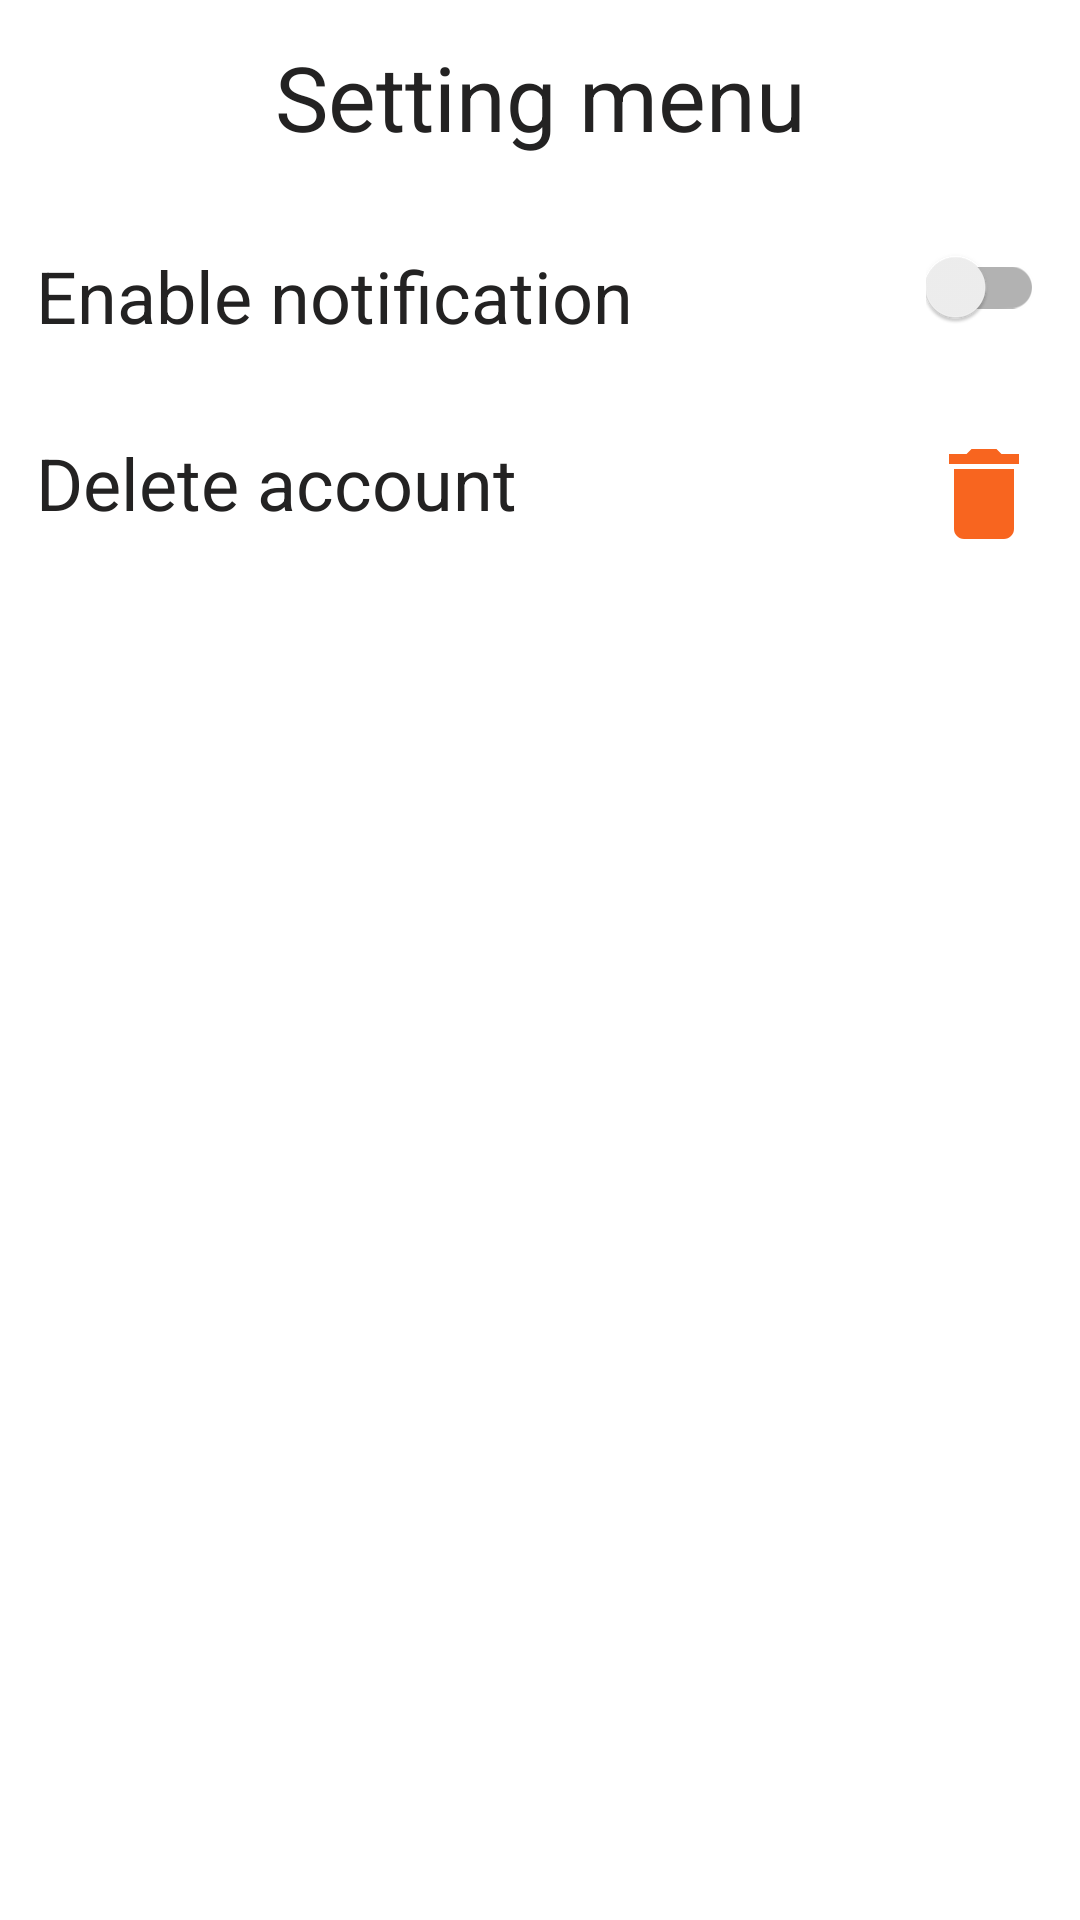

Named icons in this screenshot (1080px×1920px) and their bounding boxes, (x1,y1,x2,y2):
delete: (949,449,1019,539)
